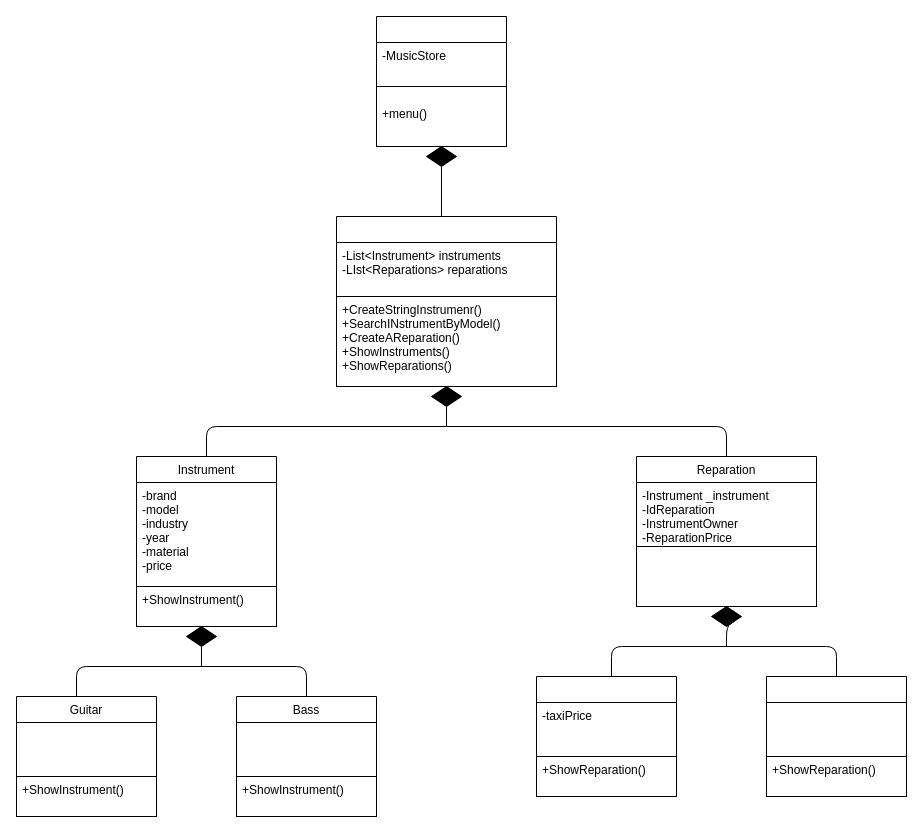
The diagram is 923 pixels wide and 833 high, and some of its shapes have lost their labels. Here are the shapes that lost their labels. From the top down, the box of each, then its label:
(376, 16, 506, 146): Program
(336, 216, 556, 386): MusicStore
(636, 546, 816, 606): +ShowReparation() +CalculatePriceOfReparation()
(536, 676, 676, 796): House
(766, 676, 906, 796): Store
